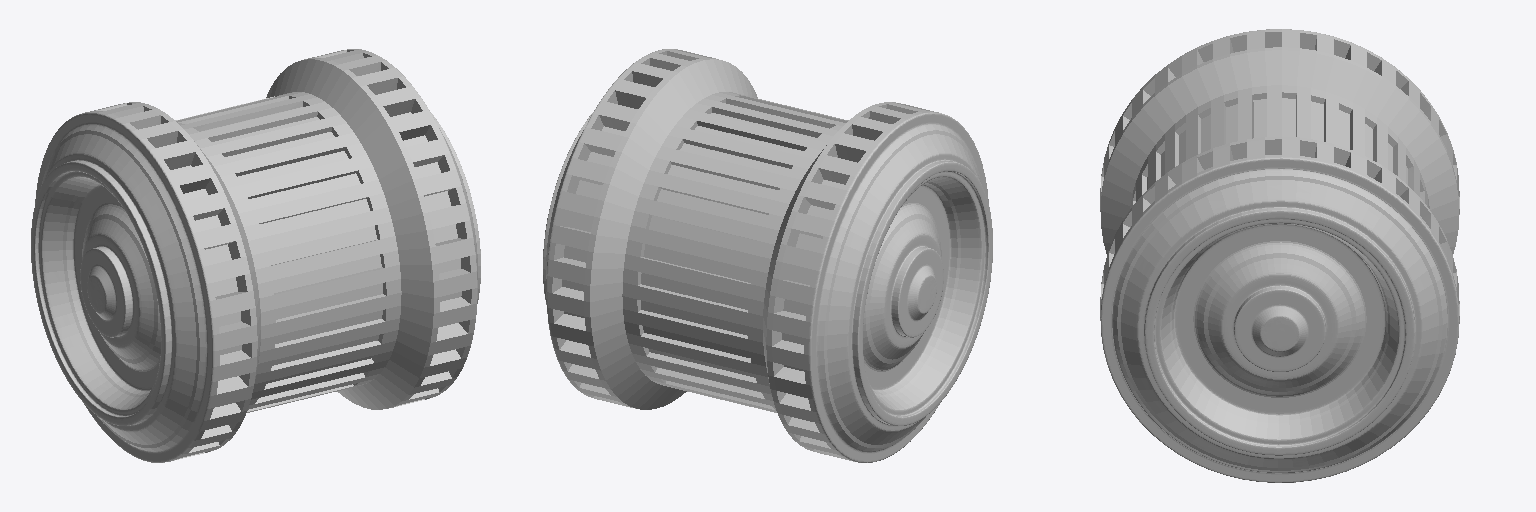
File: balbula1.OBJ
3 renders of one model, left to right at view 1: azimuth 30°, elevation 25°; view 2: azimuth 150°, elevation 25°; view 3: azimuth 270°, elevation 25°, orthographic.
Parts seen in each view (by area): view 1: Group45678; view 2: Group45678; view 3: Group45678.
Boxes of the visible parts, x1=… form: Group45678: x1=31, y1=49, x2=480, y2=462; Group45678: x1=543, y1=49, x2=992, y2=462; Group45678: x1=1100, y1=29, x2=1459, y2=482.
Bounding box in the file's own units: 3.25 × 3.17 × 3.17.